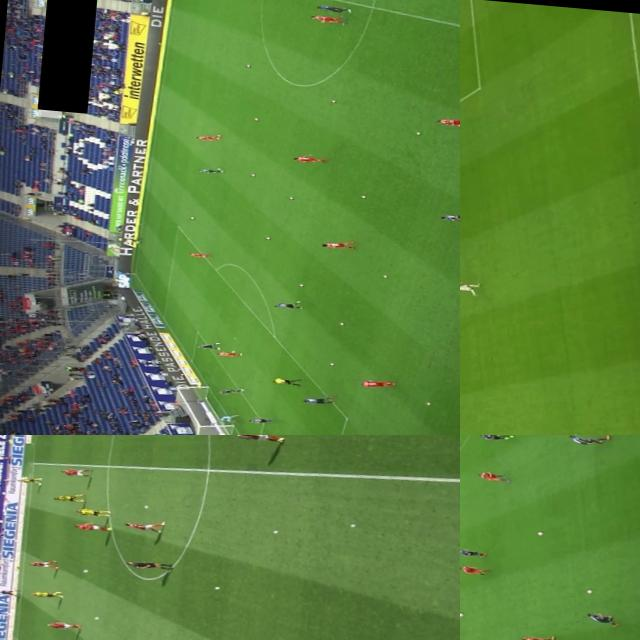ball: (210, 583, 218, 590), (584, 588, 592, 594), (271, 528, 280, 533), (345, 522, 354, 527), (423, 401, 431, 406), (380, 273, 388, 278), (80, 568, 88, 573), (295, 282, 304, 286), (252, 116, 258, 122), (139, 505, 148, 509), (328, 98, 336, 102), (92, 616, 100, 620), (187, 215, 193, 220), (262, 236, 268, 240), (536, 532, 542, 536), (328, 362, 333, 366), (287, 194, 292, 198), (412, 131, 418, 134), (248, 173, 254, 176), (338, 321, 342, 325), (243, 64, 250, 66), (359, 195, 362, 198)
player: (120, 516, 164, 534), (70, 520, 114, 532), (583, 612, 616, 626), (228, 435, 285, 443), (565, 435, 610, 445), (59, 464, 90, 478), (318, 238, 354, 250), (308, 14, 348, 24), (74, 506, 110, 517), (432, 113, 460, 127), (301, 394, 332, 406), (359, 377, 390, 389), (270, 298, 300, 310), (292, 154, 328, 164), (52, 491, 82, 503), (476, 472, 509, 482), (31, 588, 63, 598), (48, 620, 80, 630), (441, 208, 460, 224), (215, 386, 245, 396), (28, 558, 56, 568), (516, 633, 553, 640), (316, 5, 352, 12), (460, 547, 485, 557), (196, 340, 219, 350), (528, 430, 573, 435), (460, 566, 485, 575), (460, 279, 477, 292), (248, 415, 272, 424), (217, 412, 238, 422), (194, 133, 220, 141), (216, 348, 240, 356), (17, 476, 41, 484), (476, 435, 513, 440), (197, 166, 220, 173), (187, 251, 208, 258)
